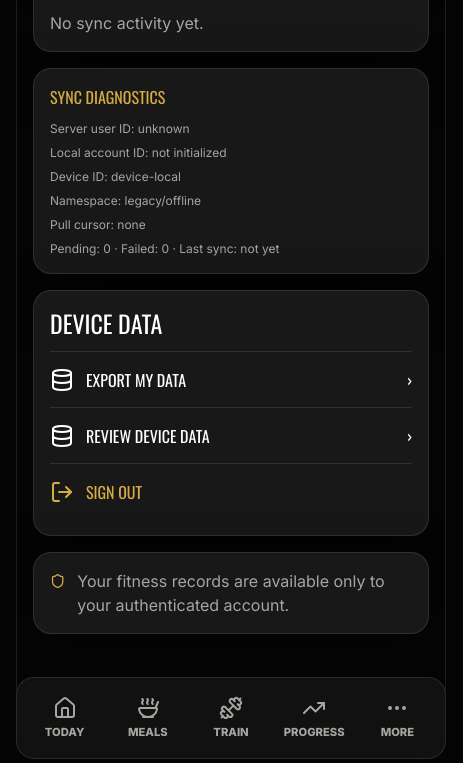
it: Phase 4 auth and sync screens › reviews device data summaries and expands readable records without auth secrets
(page scrolled)
Click the button "Review Device Data ›" at x=148, y=436, box [50,407,412,463]
(page scrolled)
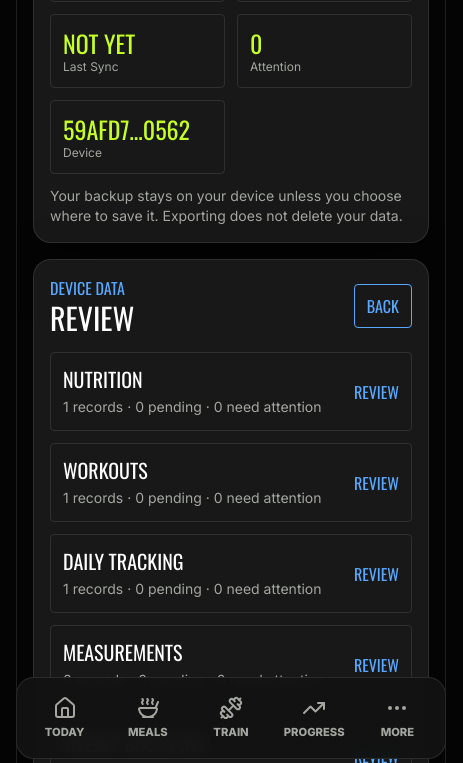
Expected: the heading "Review" is shown, [50,300,134,336]
Expected: the text "Nutrition" is shown, [63,364,143,394]
Click the button "Nutrition1 records · 0 pending · 0 need attention Review" at x=103, y=379, box [63,365,399,418]
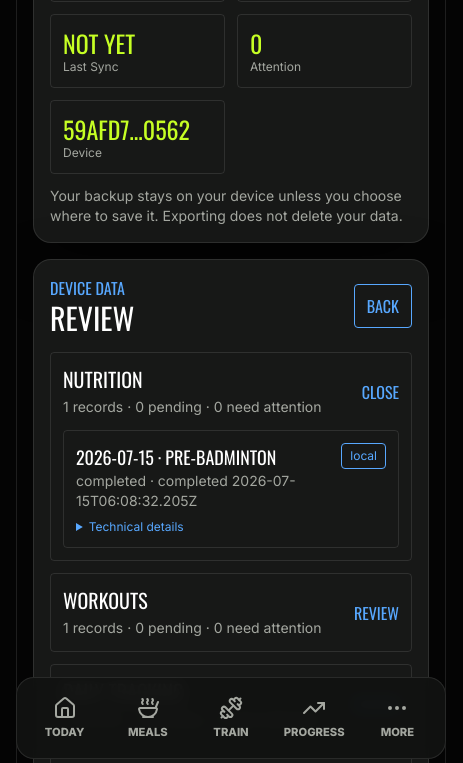
Expected: the text "2026-07-15 · pre-badminton" is shown, [76,444,276,470]
